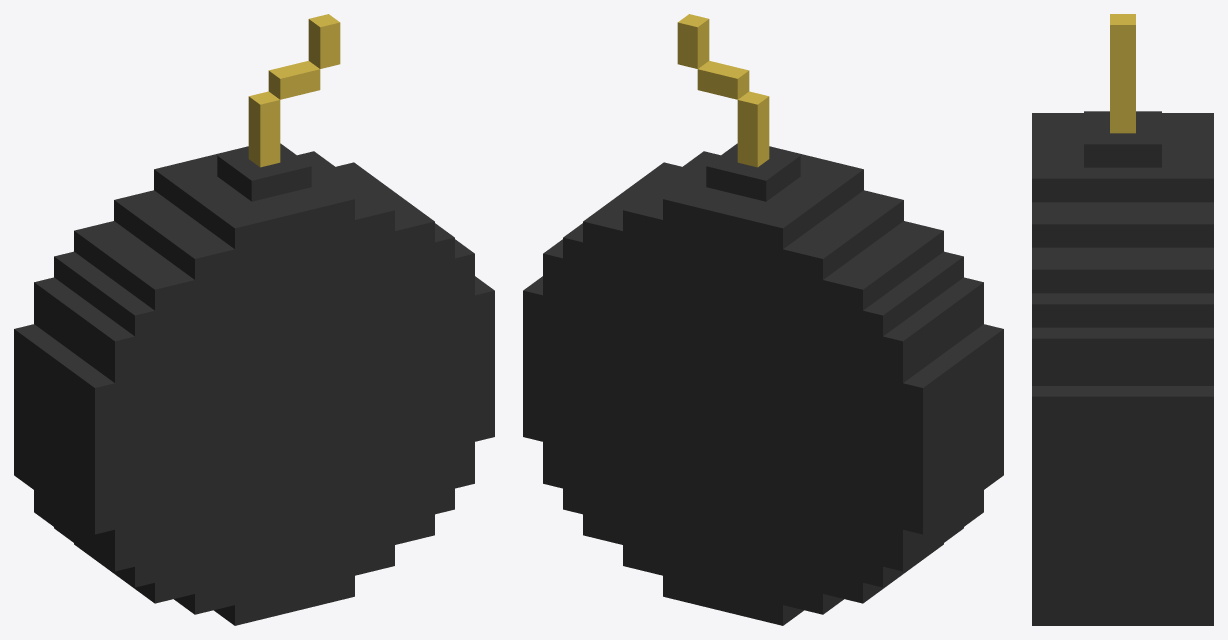
The model's file is Bomb.dae.
The picture shows the model from 3 angles, left to right: view 1: azimuth 30°, elevation 25°; view 2: azimuth 150°, elevation 25°; view 3: azimuth 270°, elevation 25°; orthographic projection. The views are drawn at different scales.
Parts seen in each view (by area): view 1: Bomb; view 2: Bomb; view 3: Bomb.
Boxes of the visible parts, x1,y1,x2,y2 form: Bomb: (14,14,494,625); Bomb: (523,14,1003,625); Bomb: (1032,14,1213,625).
Bounding box in the file's own units: 20 × 26 × 7.
Materials: 1 (1 with a texture image).
